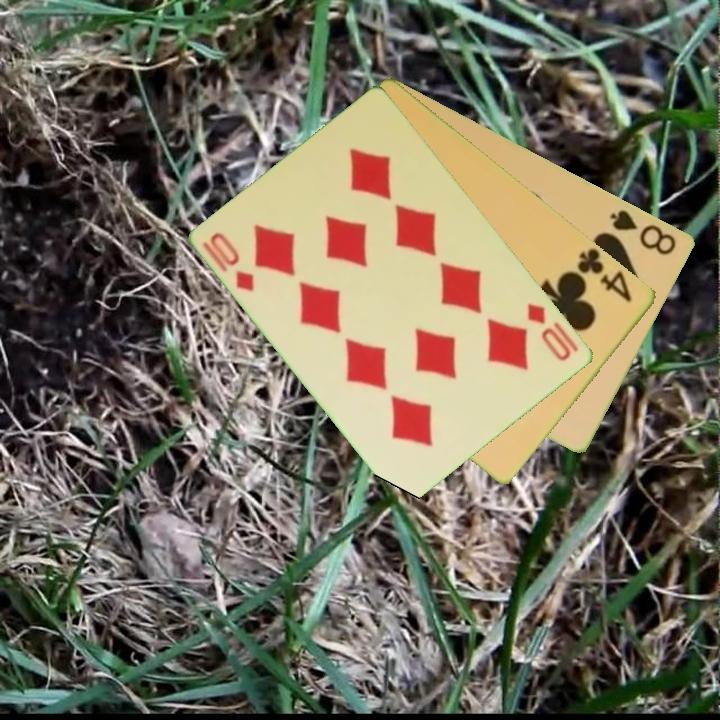10d: (524, 299, 583, 364), (207, 229, 258, 295)
4c: (570, 244, 636, 305)
8s: (607, 206, 680, 258)
